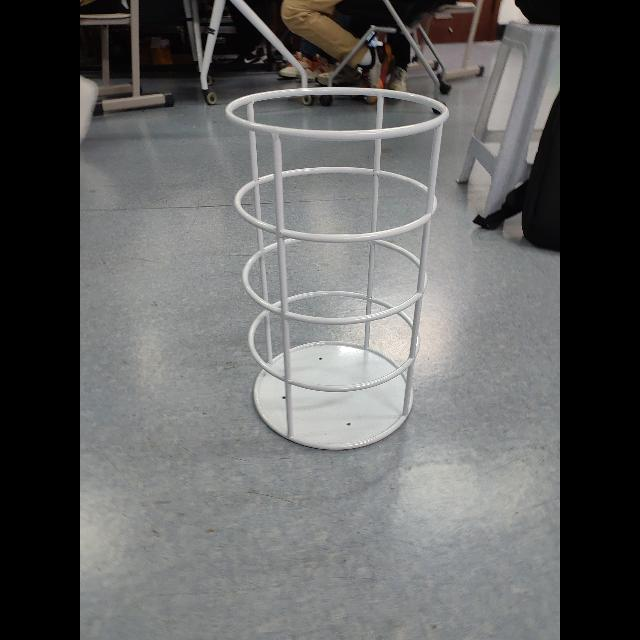S: (224, 82, 452, 456)
